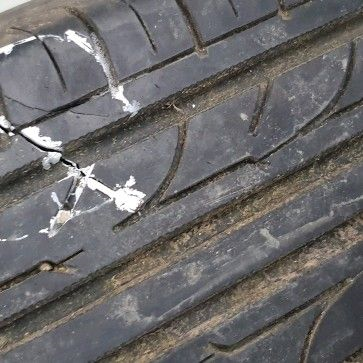tr: (0, 120, 142, 214)
